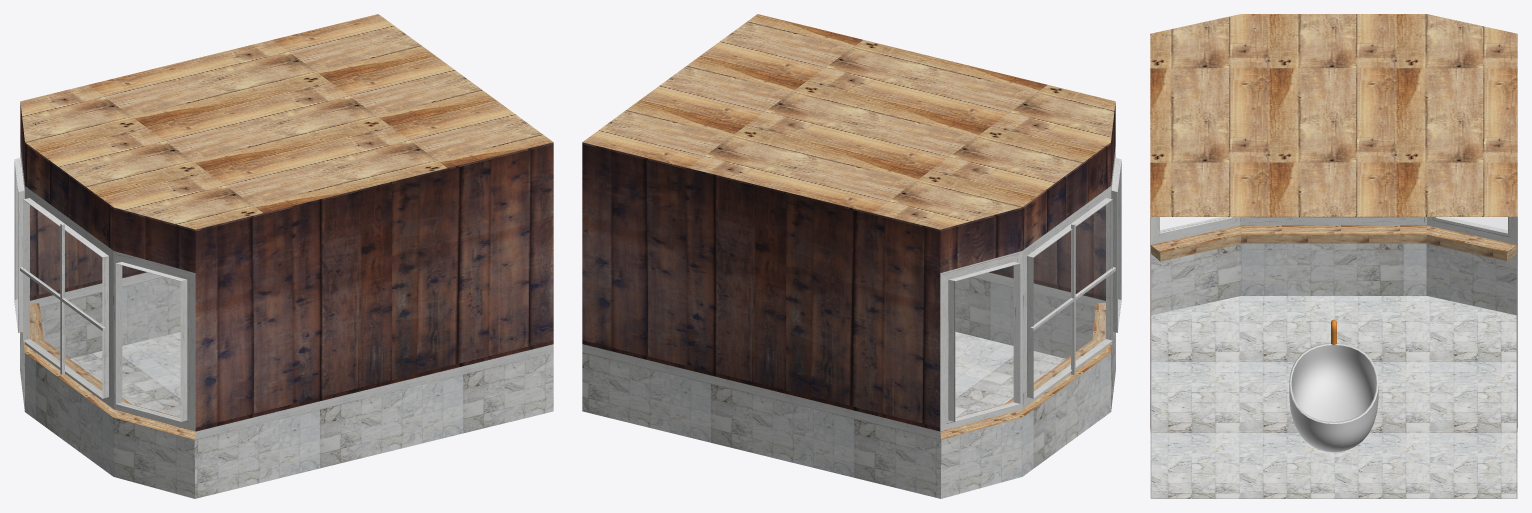
File: world.glb
The picture shows the model from 3 angles, left to right: view 1: azimuth 30°, elevation 25°; view 2: azimuth 150°, elevation 25°; view 3: azimuth 270°, elevation 25°; orthographic projection. The views are drawn at different scales.
Parts seen in each view (by area): view 1: Bathroom, BathroomWindows; view 2: Bathroom, BathroomWindows; view 3: Bathroom, Bathtub, BathroomWindows.
Boxes of the visible parts, <box> form: Bathroom: <box>14,14,553,498</box>; BathroomWindows: <box>15,172,179,420</box>; Bathroom: <box>582,14,1121,498</box>; BathroomWindows: <box>956,173,1120,420</box>; Bathroom: <box>1150,14,1517,498</box>; Bathtub: <box>1289,343,1378,452</box>; BathroomWindows: <box>1160,217,1507,229</box>.
Size of the model in its own units: 10.58 by 6.73 by 7.94.
Materials: 7 (5 with a texture image).
